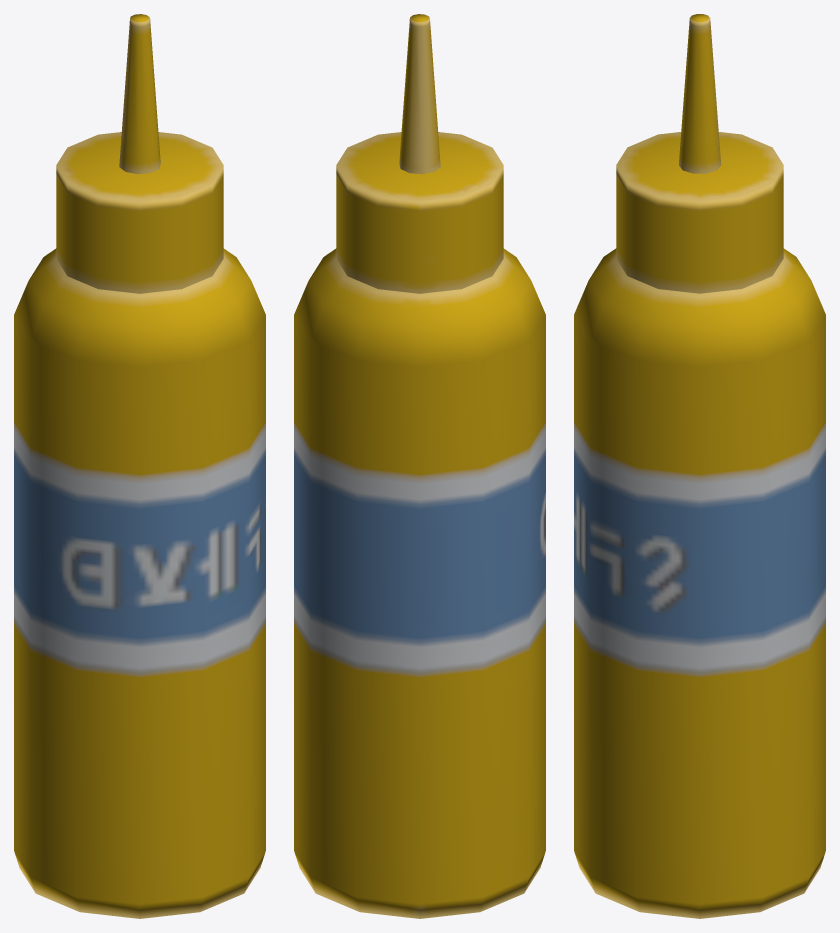
The model's file is pi_mustard04.gltf.
The picture shows the model from 3 angles, left to right: view 1: azimuth 30°, elevation 25°; view 2: azimuth 150°, elevation 25°; view 3: azimuth 270°, elevation 25°; orthographic projection.
Visible parts, largest first — view 1: um_pi_mastard04_model_pi_mastard04_modelShape:pi_mustard04_b; view 2: um_pi_mastard04_model_pi_mastard04_modelShape:pi_mustard04_b; view 3: um_pi_mastard04_model_pi_mastard04_modelShape:pi_mustard04_b.
Part boxes in pixels (box(x1,y1,x2,y2)): um_pi_mastard04_model_pi_mastard04_modelShape:pi_mustard04_b: box(14, 14, 265, 918); um_pi_mastard04_model_pi_mastard04_modelShape:pi_mustard04_b: box(294, 14, 545, 918); um_pi_mastard04_model_pi_mastard04_modelShape:pi_mustard04_b: box(574, 14, 825, 918).
Bounding box in the file's own units: 0.06 × 0.2234 × 0.06.
1 material, 1 textured.
